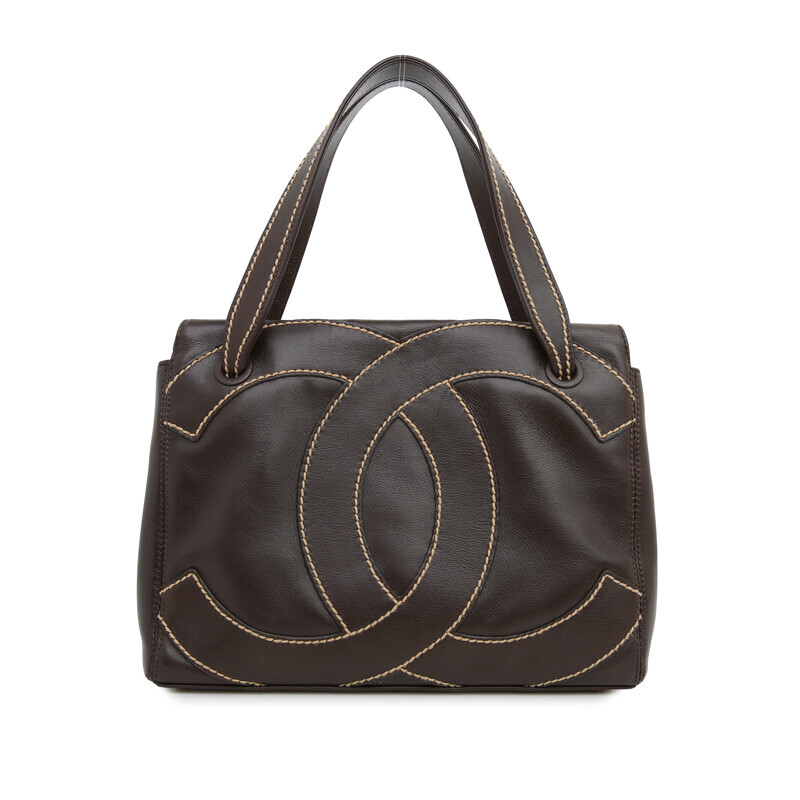channel: (120, 290, 702, 729), (145, 329, 649, 692)
